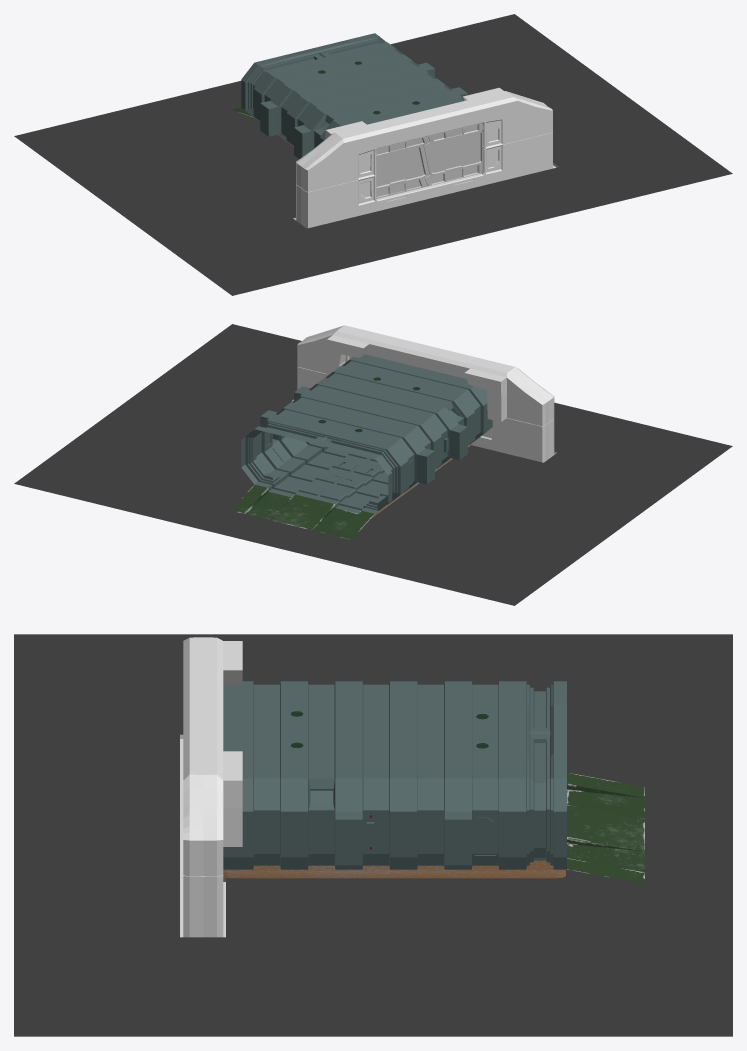
Rendered from sci fi .fbx.
3 renders of one model, top to bottom at view 1: azimuth 30°, elevation 25°; view 2: azimuth 150°, elevation 25°; view 3: azimuth 270°, elevation 25°, orthographic. The views are drawn at different scales.
Parts seen in each view (by area): view 1: Plane, door support, Cube, door 2, door 1; view 2: Plane, Cube, door support, Cube.007; view 3: Plane, Cube, door support, Cube.007, down ground support iron.
Boxes of the visible parts, box(x1,y1,x2,y2) form: Plane: box(14, 14, 732, 295); door support: box(296, 87, 552, 228); Cube: box(241, 33, 467, 158); door 2: box(423, 123, 482, 186); door 1: box(376, 137, 429, 198); Plane: box(14, 324, 732, 605); Cube: box(241, 354, 492, 513); door support: box(297, 325, 554, 462); Cube.007: box(231, 484, 374, 539); Plane: box(14, 634, 732, 1036); Cube: box(223, 681, 566, 869); door support: box(183, 637, 242, 937); Cube.007: box(567, 772, 644, 883); down ground support iron: box(223, 860, 565, 881).
Size of the model in its own units: 1893 by 349 by 1430.
